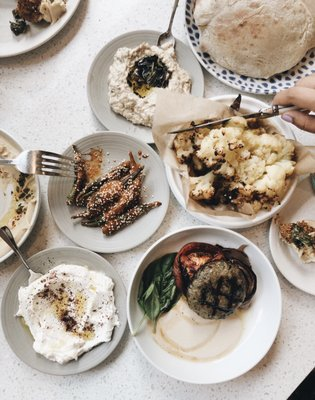sushi: (127, 227, 283, 386), (152, 94, 300, 228), (15, 248, 125, 367)
